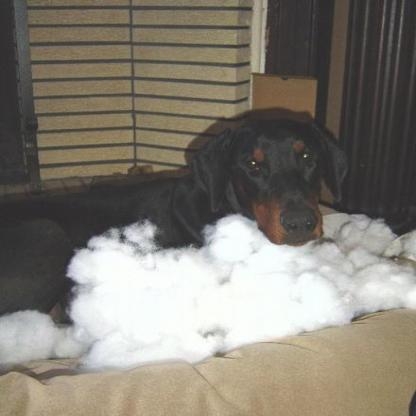Doberman: (0, 111, 358, 333)
